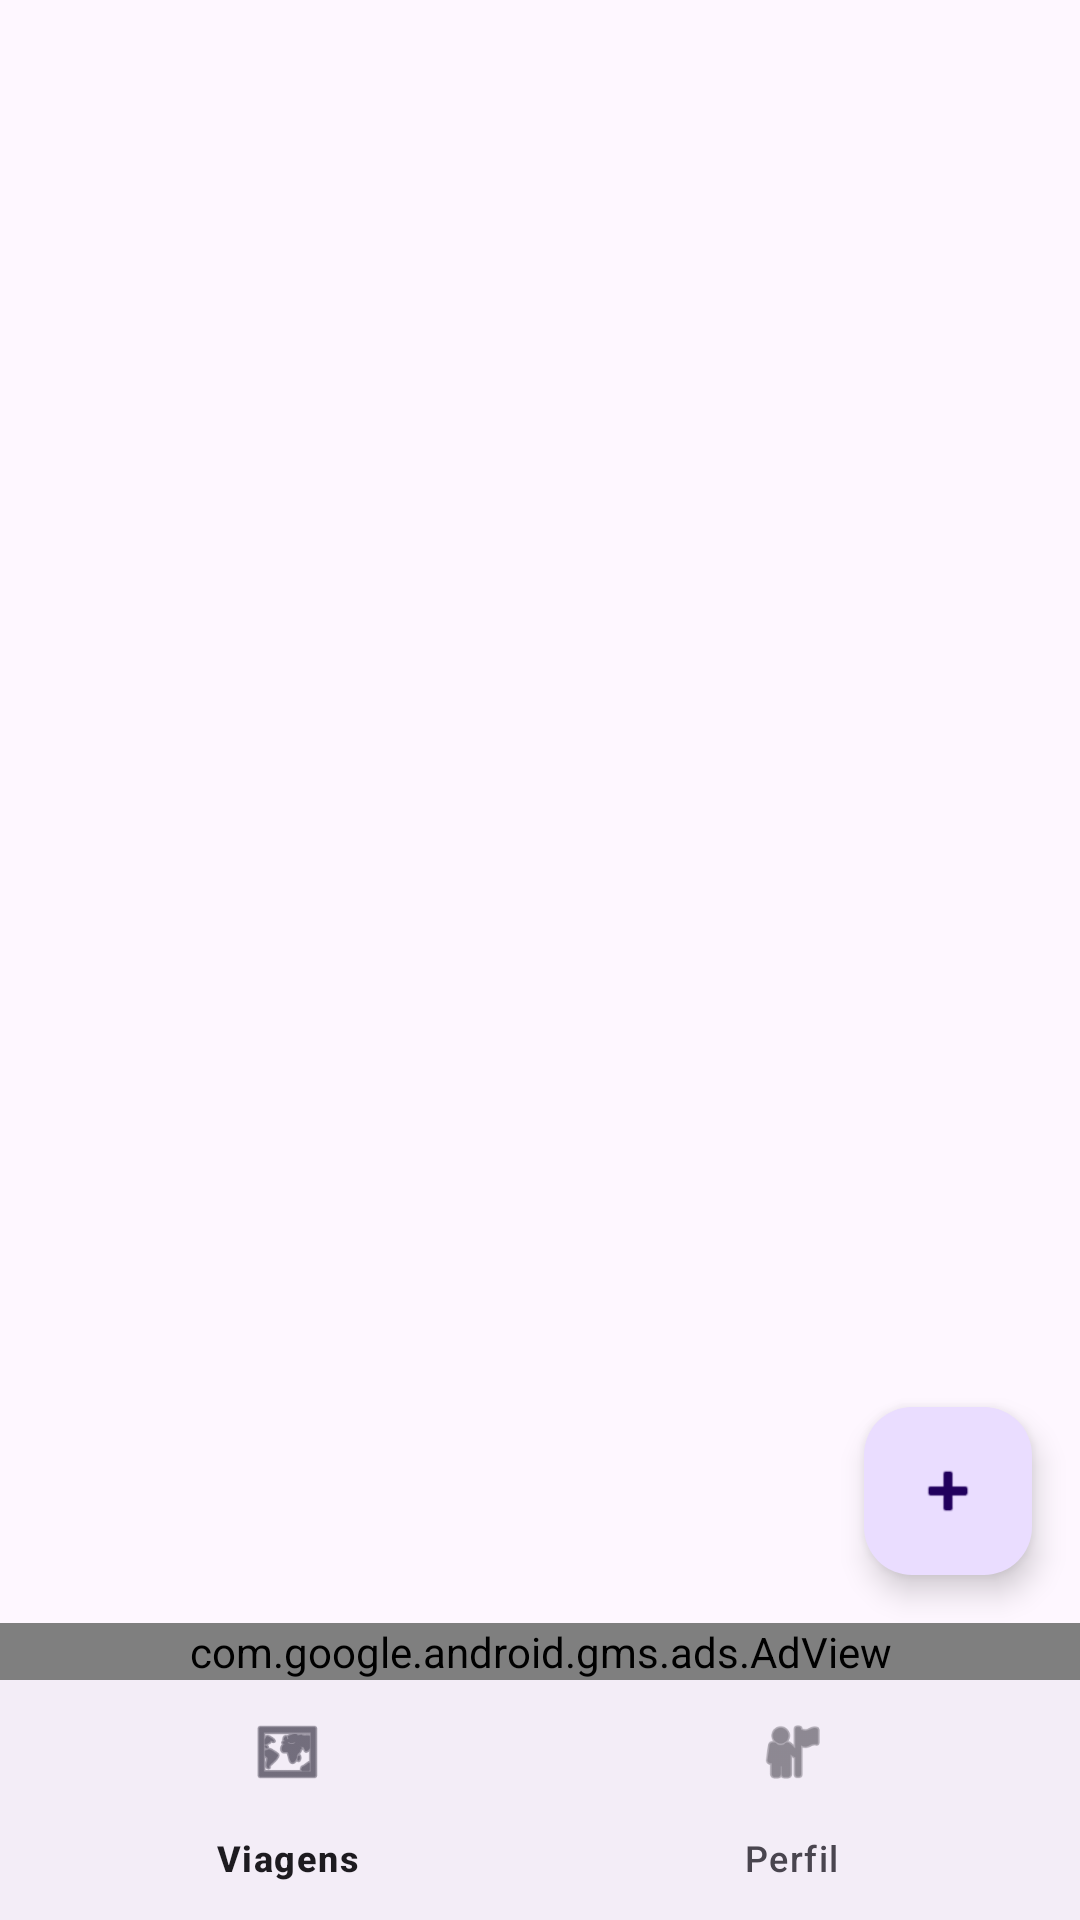

Icon bounding boxes for this 1080px×1920px phone screenshot, format [left=x1, top=y1, right=x2, bottom=y2]:
add: [left=864, top=1407, right=1032, bottom=1575]
